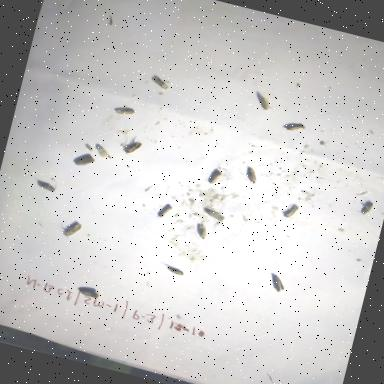pbw: (112, 130, 146, 160), (54, 214, 88, 242), (70, 279, 106, 303), (142, 70, 178, 94), (68, 147, 100, 174), (149, 196, 178, 225), (248, 87, 276, 116), (201, 162, 229, 190), (278, 195, 305, 224), (278, 116, 310, 140), (155, 258, 189, 280), (89, 140, 118, 165), (28, 174, 60, 196), (198, 204, 230, 226), (109, 98, 140, 120), (264, 271, 290, 296), (238, 162, 263, 188), (353, 194, 377, 219), (188, 218, 212, 243), (80, 140, 100, 158)
